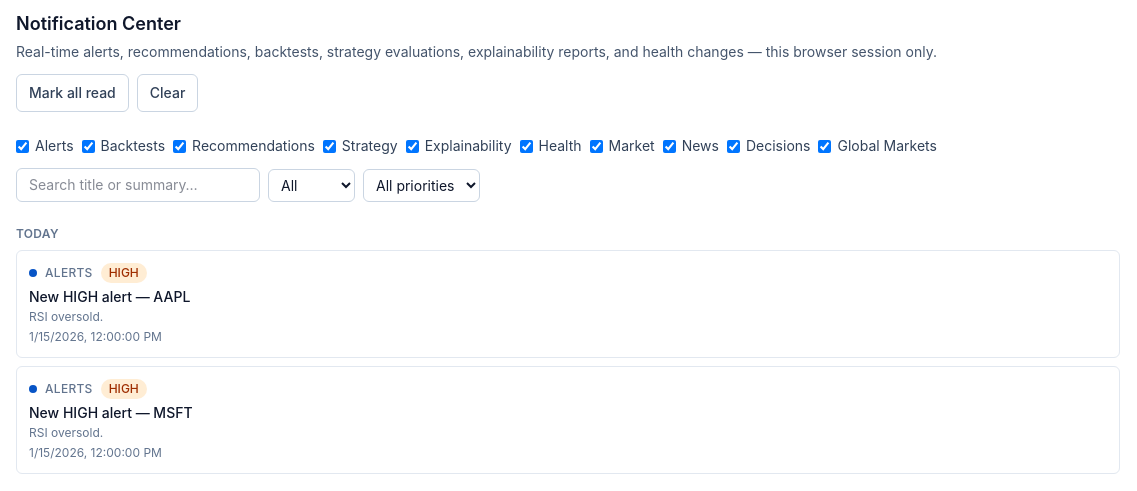
Scenario: NotificationCenterPage › searches by title/summary text
The image size is (1137, 491).
Type "MSFT" into the search field named "Search notifications" at coordinates (138, 185), box [16, 168, 260, 202]
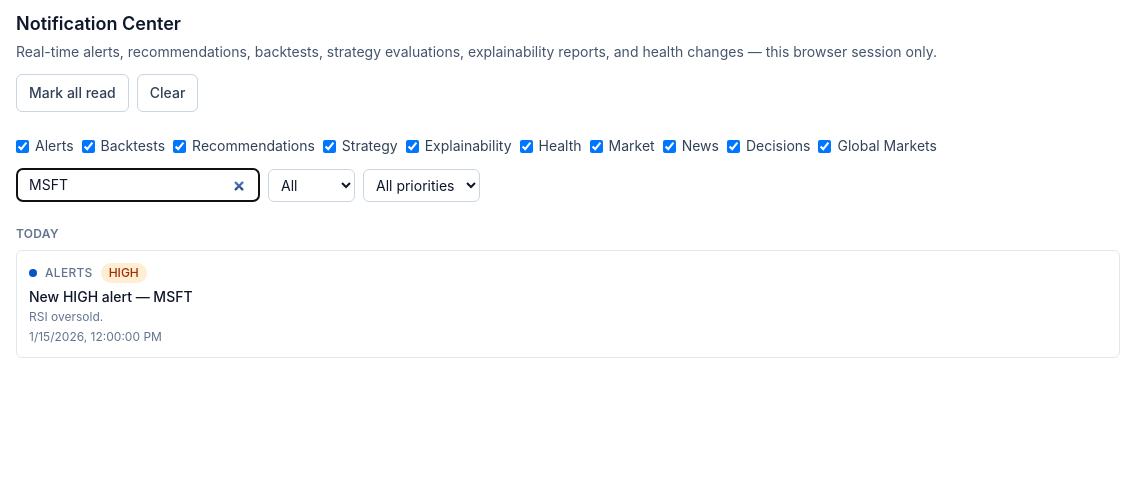
Expected: the text "New HIGH alert — MSFT" is shown, [29, 288, 193, 305]
Expected: the button "New HIGH alert — AAPL" is gone
